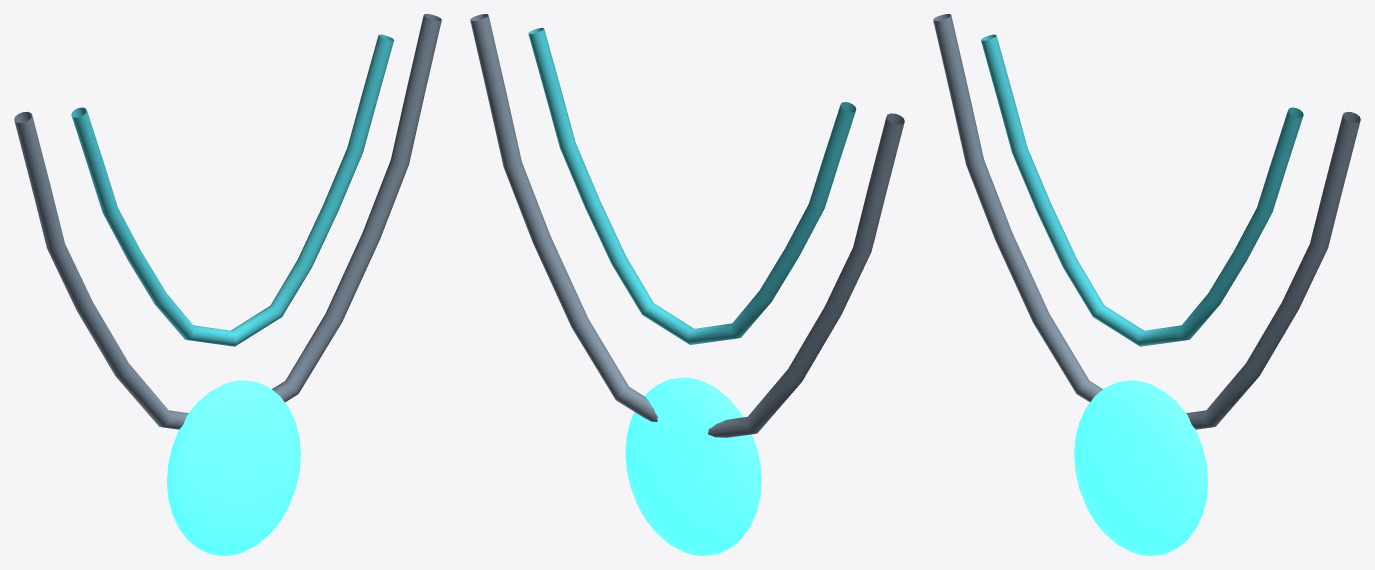
File: necklace_v3.glb
3 renders of one model, left to right at view 1: azimuth 30°, elevation 25°; view 2: azimuth 150°, elevation 25°; view 3: azimuth 330°, elevation 25°, orthographic.
Parts seen in each view (by area): view 1: LOCKET_EMISSIVE, OUTER_CHAIN_PRIMARY, INNER_CHAIN_ACCENT; view 2: LOCKET_EMISSIVE, OUTER_CHAIN_PRIMARY, INNER_CHAIN_ACCENT; view 3: LOCKET_EMISSIVE, OUTER_CHAIN_PRIMARY, INNER_CHAIN_ACCENT.
Part boxes in pixels (<box>): LOCKET_EMISSIVE: <box>167,380,300,555</box>; OUTER_CHAIN_PRIMARY: <box>14,14,441,429</box>; INNER_CHAIN_ACCENT: <box>71,34,393,346</box>; LOCKET_EMISSIVE: <box>625,377,761,555</box>; OUTER_CHAIN_PRIMARY: <box>470,14,904,437</box>; INNER_CHAIN_ACCENT: <box>528,28,856,344</box>; LOCKET_EMISSIVE: <box>1074,380,1207,555</box>; OUTER_CHAIN_PRIMARY: <box>933,14,1360,429</box>; INNER_CHAIN_ACCENT: <box>981,34,1303,346</box>.
Bounding box in the file's own units: 2.08 × 2.26 × 0.24.
